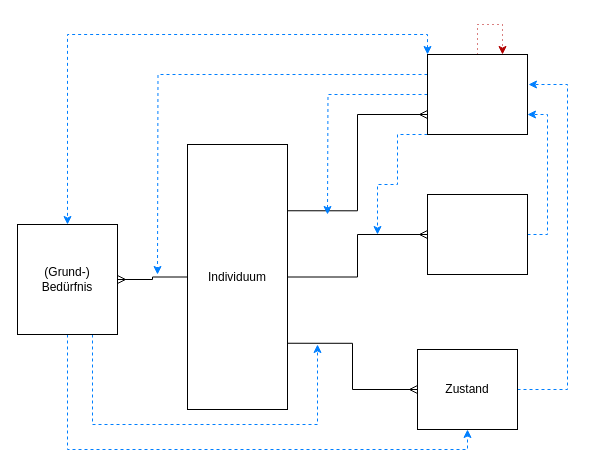
This 593x475 diagram has some shape labels left out. Here are the shapes that lost their labels. From the top down, the centre of each, then its label:
At point 477,94: "Tätigkeit".
At point 477,234: "Fähigkeit".
